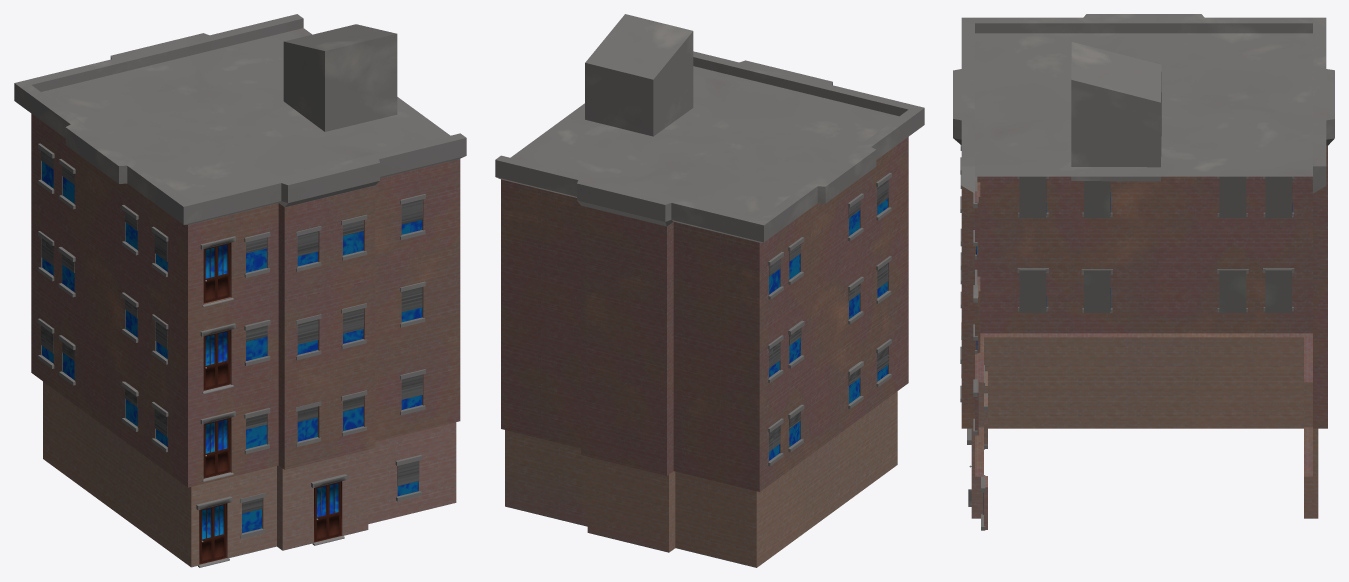
File: end_2_building.gltf
3 views of the same model, side by side, from view 1: azimuth 30°, elevation 25°; view 2: azimuth 150°, elevation 25°; view 3: azimuth 270°, elevation 25° (orthographic). The views are drawn at different scales.
Visible parts, largest first — view 1: baking2.001; view 2: baking2.001; view 3: baking2.001.
Part boxes in pixels (bbox=[...]): baking2.001: bbox=[14, 14, 466, 567]; baking2.001: bbox=[495, 14, 924, 567]; baking2.001: bbox=[953, 14, 1334, 530].
Size of the model in its own units: 10.67 by 15.66 by 11.29.
Materials: 1 (1 with a texture image).
